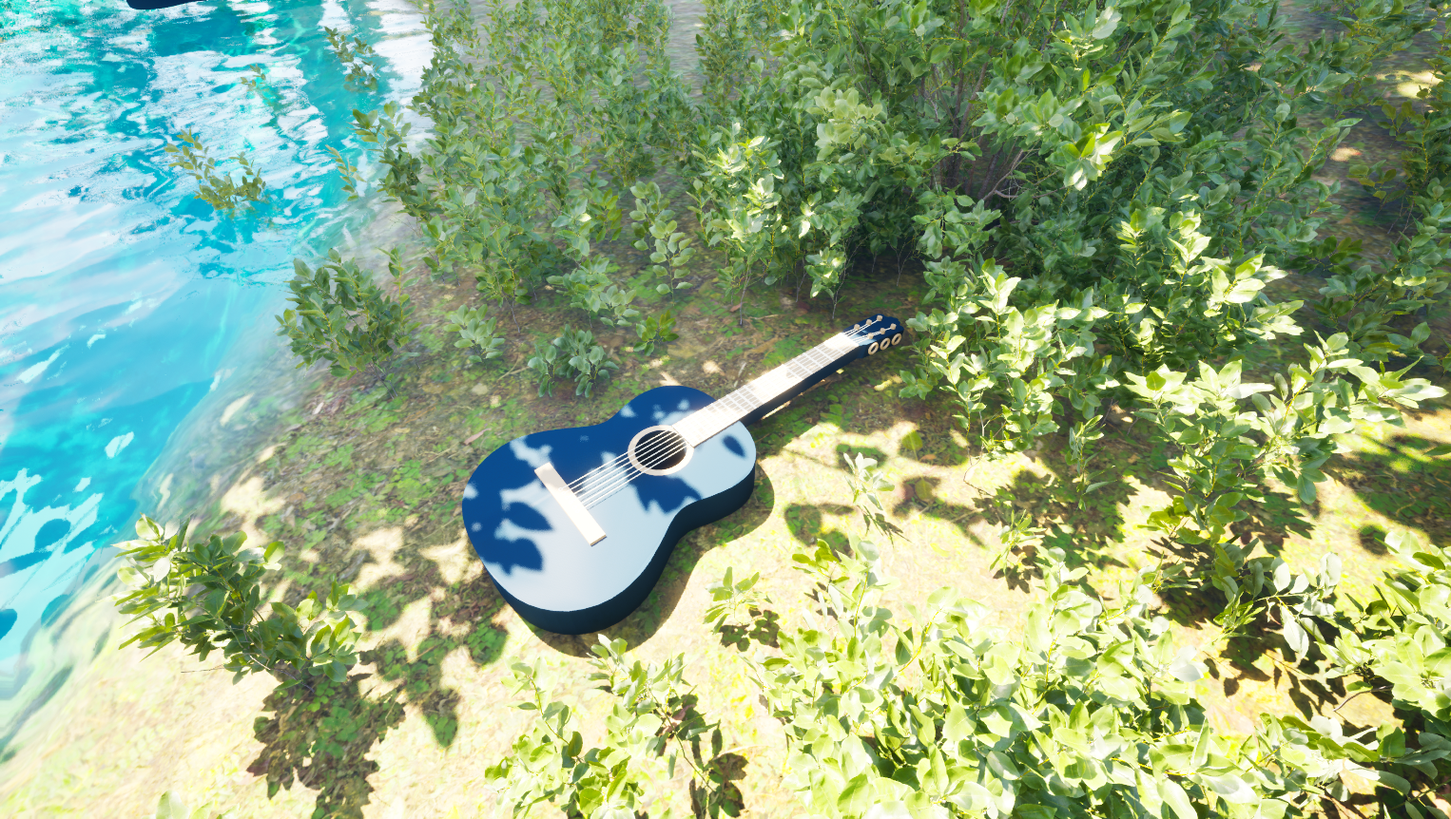Guitar: (432, 271, 969, 673)
